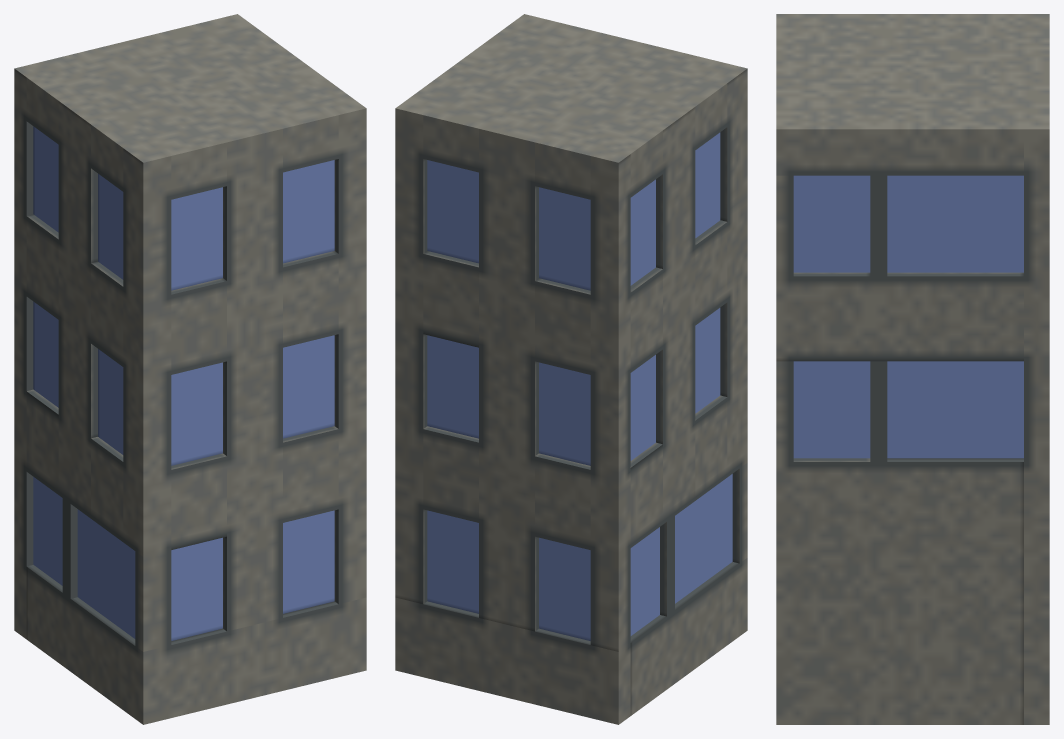
3 renders of one model, left to right at view 1: azimuth 30°, elevation 25°; view 2: azimuth 150°, elevation 25°; view 3: azimuth 270°, elevation 25°, orthographic. The views are drawn at different scales.
Parts seen in each view (by area): view 1: Content; view 2: Content; view 3: Content.
Part boxes in pixels (bbox=[...]): Content: bbox=[14, 14, 366, 724]; Content: bbox=[395, 14, 747, 724]; Content: bbox=[776, 14, 1049, 724].
Bounding box in the file's own units: 32 × 77 × 32.
1 material, 1 textured.
